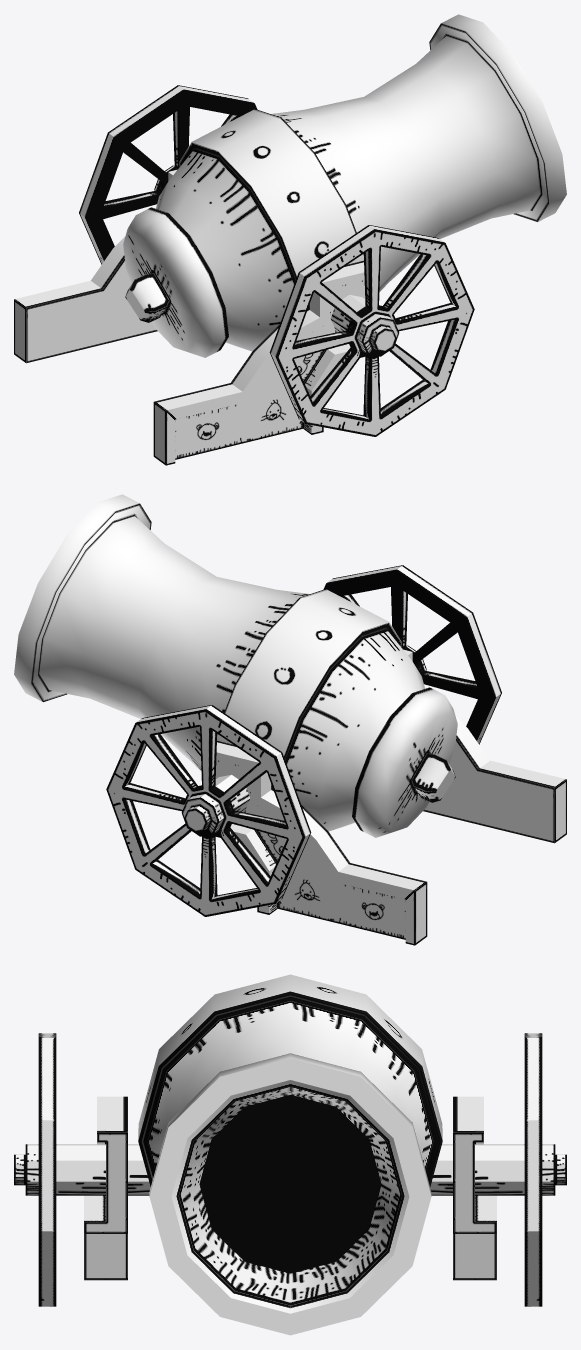
File: Cannon.fbx
The picture shows the model from 3 angles, top to bottom: view 1: azimuth 30°, elevation 25°; view 2: azimuth 150°, elevation 25°; view 3: azimuth 270°, elevation 25°; orthographic projection. The views are drawn at different scales.
Parts seen in each view (by area): view 1: Body1, Wheels_2, Support_2, Support_1, Wheels_1; view 2: Body1, Wheels_1, Support_1, Support_2, Wheels_2; view 3: Body1, Wheels_1, Wheels_2, Support_1, Support_2.
Part boxes in pixels (left/top/right/bottom): Body1: left=123, top=14, right=566, bottom=357; Wheels_2: left=269, top=225, right=474, bottom=436; Support_2: left=153, top=260, right=365, bottom=465; Support_1: left=14, top=169, right=177, bottom=363; Wheels_1: left=79, top=85, right=257, bottom=264; Body1: left=14, top=494, right=457, bottom=837; Wheels_1: left=106, top=705, right=311, bottom=916; Support_1: left=215, top=740, right=427, bottom=945; Support_2: left=403, top=649, right=566, bottom=843; Wheels_2: left=323, top=565, right=501, bottom=744; Body1: left=138, top=974, right=442, bottom=1335; Wheels_1: left=430, top=1033, right=566, bottom=1306; Wheels_2: left=14, top=1033, right=150, bottom=1306; Support_1: left=453, top=1096, right=496, bottom=1280; Support_2: left=84, top=1096, right=127, bottom=1280.
Size of the model in its own units: 6.55 by 4.14 by 5.59.
3 materials, 3 textured.
